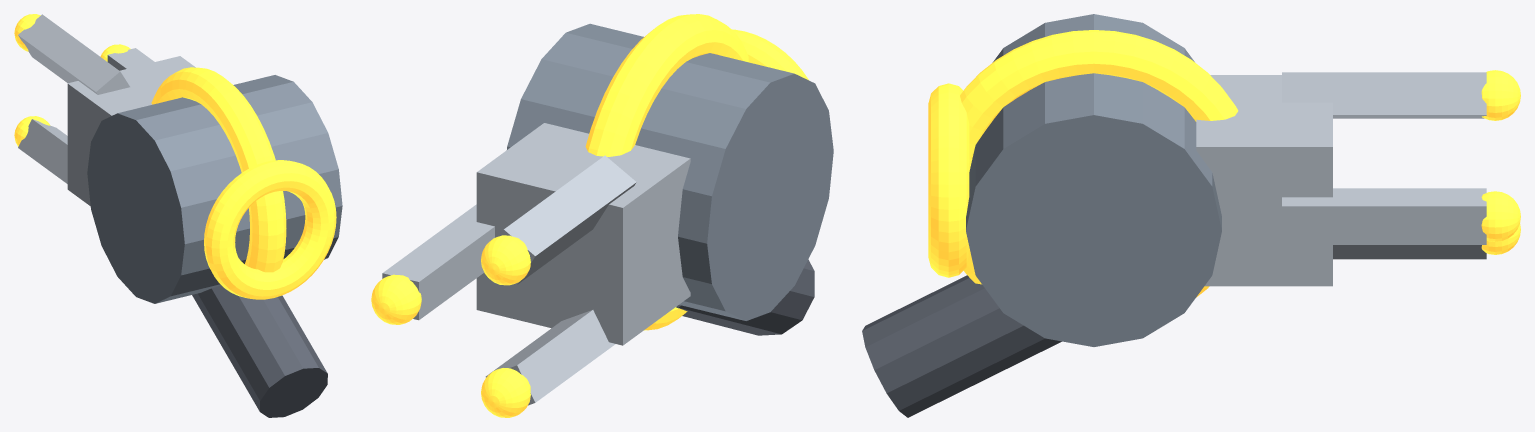
Rendered from tool_hook.glb.
3 views of the same model, side by side, from view 1: azimuth 30°, elevation 25°; view 2: azimuth 150°, elevation 25°; view 3: azimuth 270°, elevation 25° (orthographic). The views are drawn at different scales.
Visible parts, largest first — view 1: Drum, Coil, Handle, DrumRing, Frame, Prong_1, Prong_2, Prong_0, ProngTip_2, ProngTip_1; view 2: Drum, Frame, DrumRing, Prong_1, Prong_0, Prong_2, Handle, ProngTip_1, ProngTip_0, ProngTip_2, Coil; view 3: Drum, Frame, Handle, DrumRing, Prong_0, Prong_1, Coil, Prong_2, ProngTip_0, ProngTip_1.
Part boxes in pixels (box(x1,y1,x2,y2)): Drum: box(87, 75, 342, 303); Coil: box(204, 160, 336, 299); Handle: box(192, 285, 327, 417); DrumRing: box(151, 67, 286, 272); Frame: box(67, 56, 195, 205); Prong_1: box(18, 14, 129, 94); Prong_2: box(18, 119, 67, 183); Prong_0: box(107, 48, 154, 70); ProngTip_2: box(14, 116, 50, 146); ProngTip_1: box(14, 14, 40, 51); Drum: box(507, 23, 833, 320); Frame: box(476, 123, 690, 345); DrumRing: box(585, 14, 748, 330); Prong_1: box(500, 155, 636, 284); Prong_0: box(382, 204, 494, 320); Prong_2: box(485, 310, 615, 405); Handle: box(676, 259, 814, 335); ProngTip_1: box(481, 235, 530, 285); ProngTip_0: box(371, 274, 421, 324); ProngTip_2: box(481, 368, 530, 417); Coil: box(732, 29, 808, 80); Drum: box(966, 14, 1221, 346); Frame: box(1196, 75, 1332, 286); Handle: box(862, 275, 1061, 417); DrumRing: box(960, 30, 1238, 297); Prong_0: box(1282, 188, 1486, 244); Prong_1: box(1282, 72, 1486, 118); Coil: box(928, 83, 969, 277); Prong_2: box(1333, 245, 1486, 259); ProngTip_0: box(1481, 191, 1520, 241); ProngTip_1: box(1481, 70, 1520, 120).
Bounding box in the file's own units: 0.14 × 0.2459 × 0.3858.
